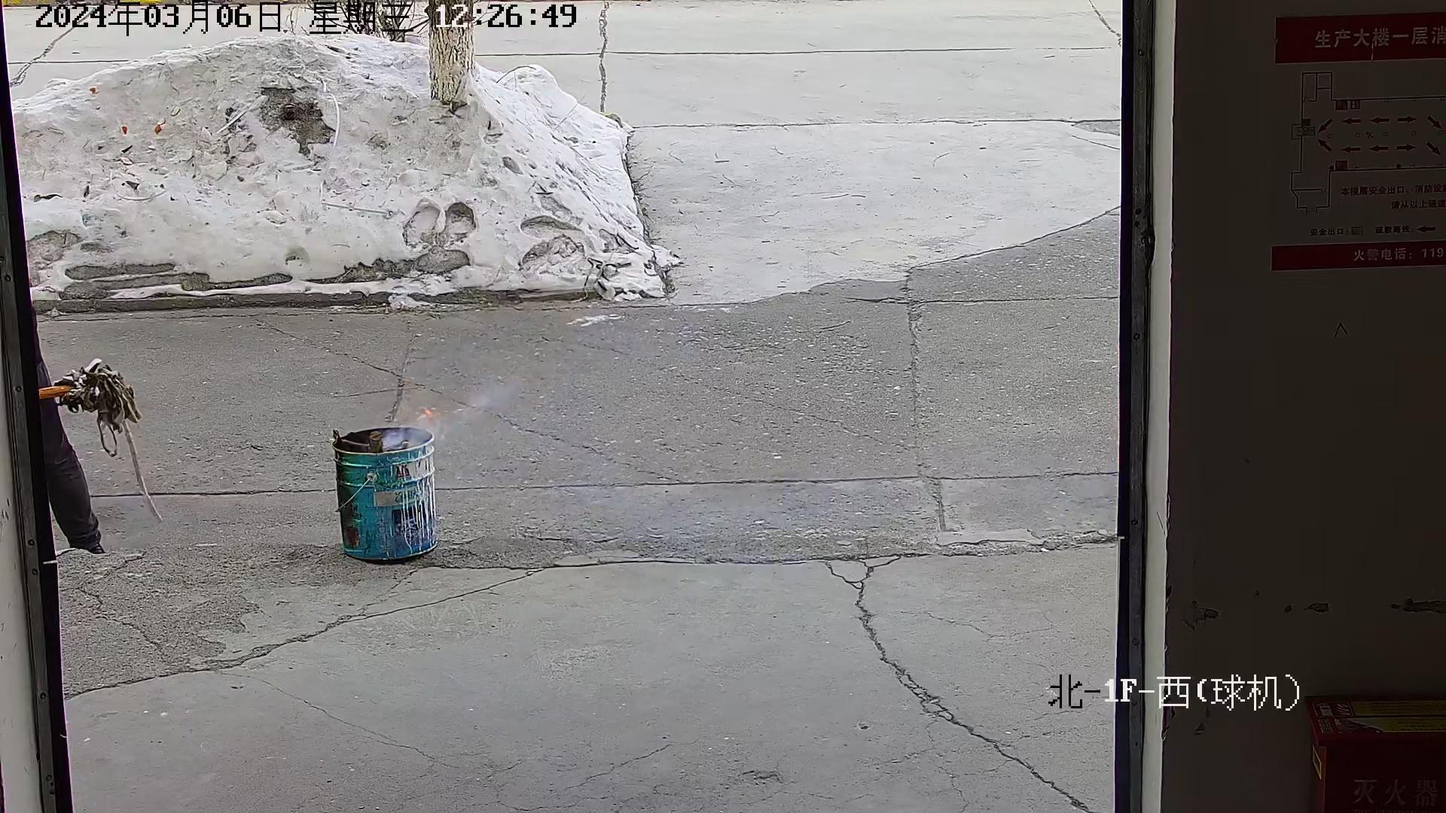smoke: (368, 408, 444, 447), (451, 385, 520, 419)
